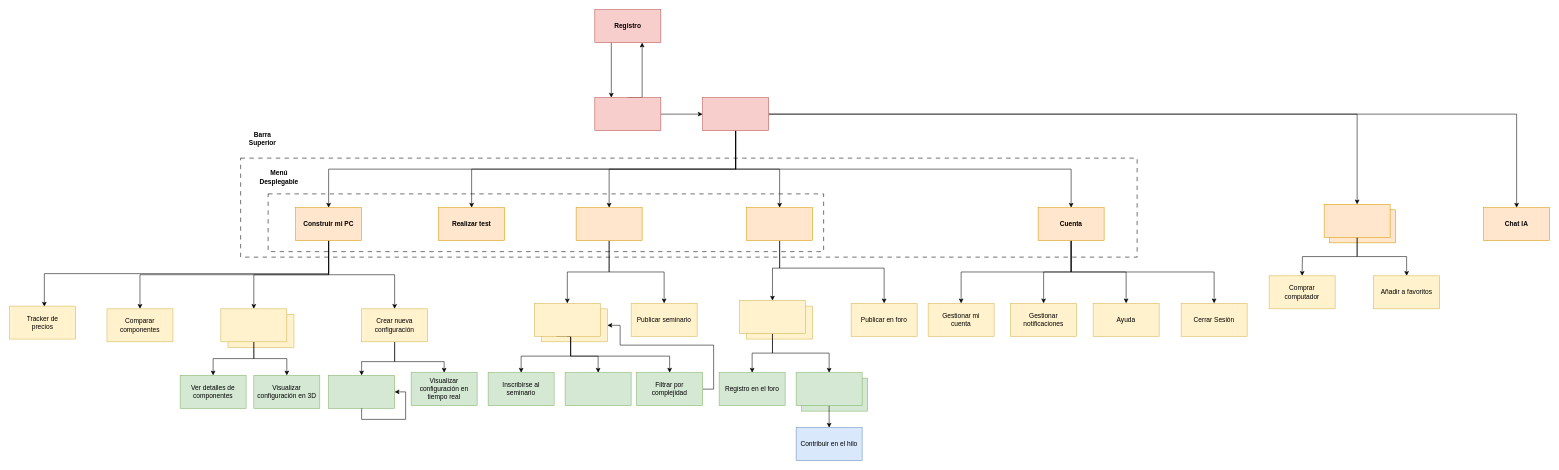
Some shapes in this 1559 by 470 pixel diagram are drawn without their labels. The shapes that lost their labels are listed below. From the top down, each one's centre as x and y in pixels, then its label:
(627,114): Login
(735,114): Home
(609,224): Seminarios
(779,224): Foros
(1357,220): Configuraciones top
(253,325): Ver mis PC
(567,319): Ver seminarios
(772,317): Ver Foros
(361,391): Selección de componentes
(598,389): Ver detalles seminario
(829,389): Ver hilos
